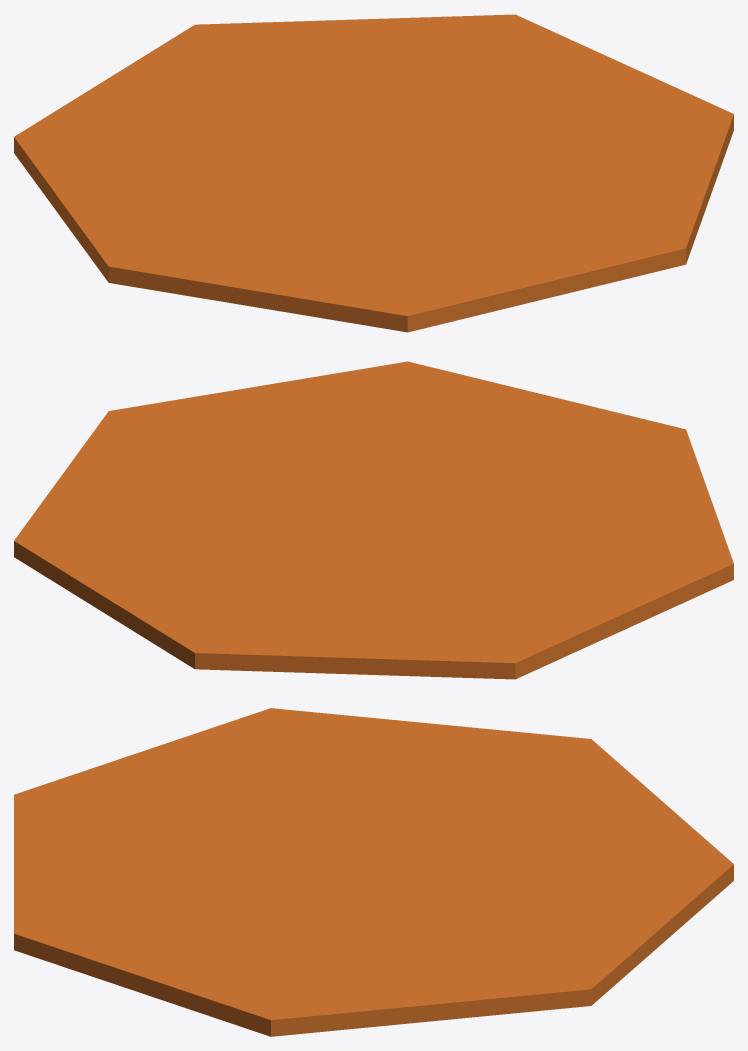
The model's file is Herb Coin Collider.fbx.
3 views of the same model, one above another, from view 1: azimuth 30°, elevation 25°; view 2: azimuth 150°, elevation 25°; view 3: azimuth 270°, elevation 25° (orthographic). The views are drawn at different scales.
Parts seen in each view (by area): view 1: (Green) Herb Coin.001; view 2: (Green) Herb Coin.001; view 3: (Green) Herb Coin.001.
Boxes of the visible parts, box(x1,y1,x2,y2) form: (Green) Herb Coin.001: box(14, 14, 733, 332); (Green) Herb Coin.001: box(14, 361, 733, 679); (Green) Herb Coin.001: box(14, 708, 733, 1036).
Size of the model in its own units: 218 by 5.43 by 213.
